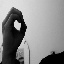o: (1, 6, 28, 47)
